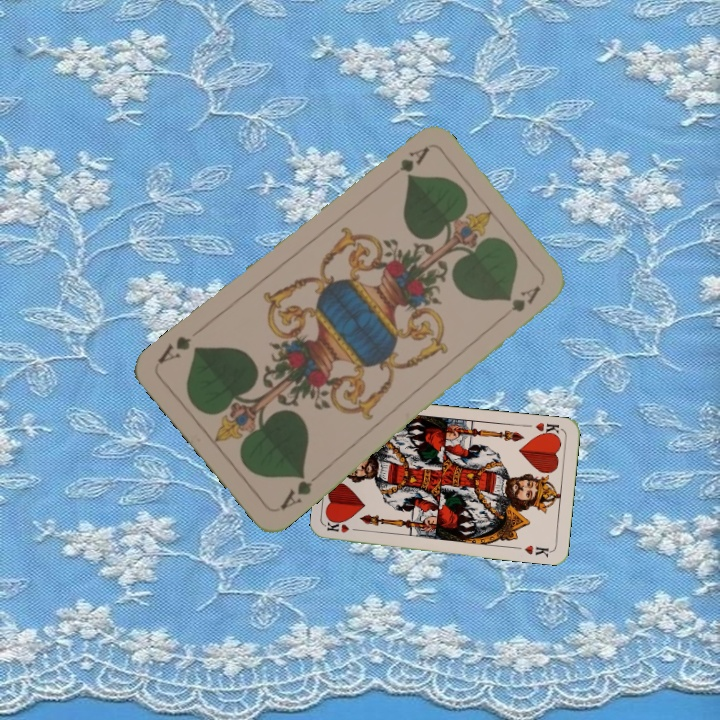GA: (380, 143, 432, 185), (276, 469, 323, 513)
HK: (324, 518, 365, 535), (531, 419, 564, 439)
